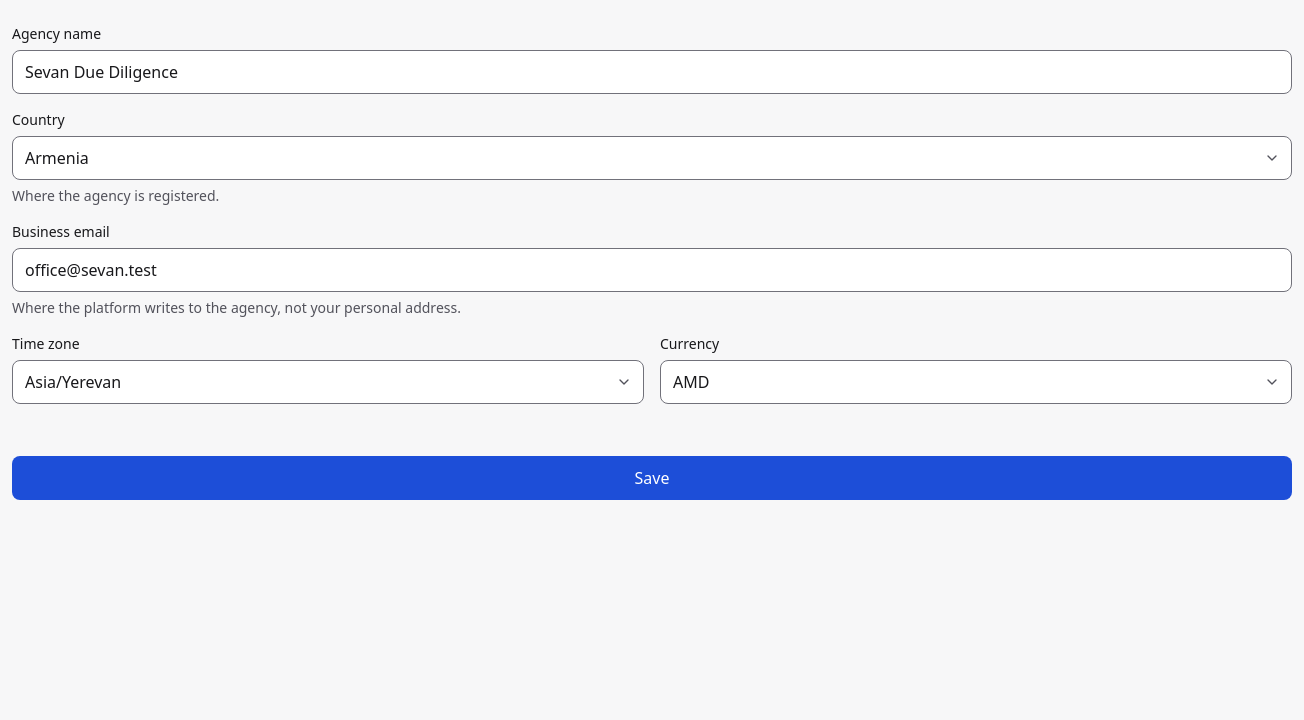
Scenario: an agency’s details (T-150) › the owner’s form › asks for a reload when the details changed elsewhere, and overwrites nothing
The width and height of the screenshot is (1304, 720).
Step 1. Select "EUR" in the dropdown labelled "Currency" → (976, 382), box [660,360,1292,404]
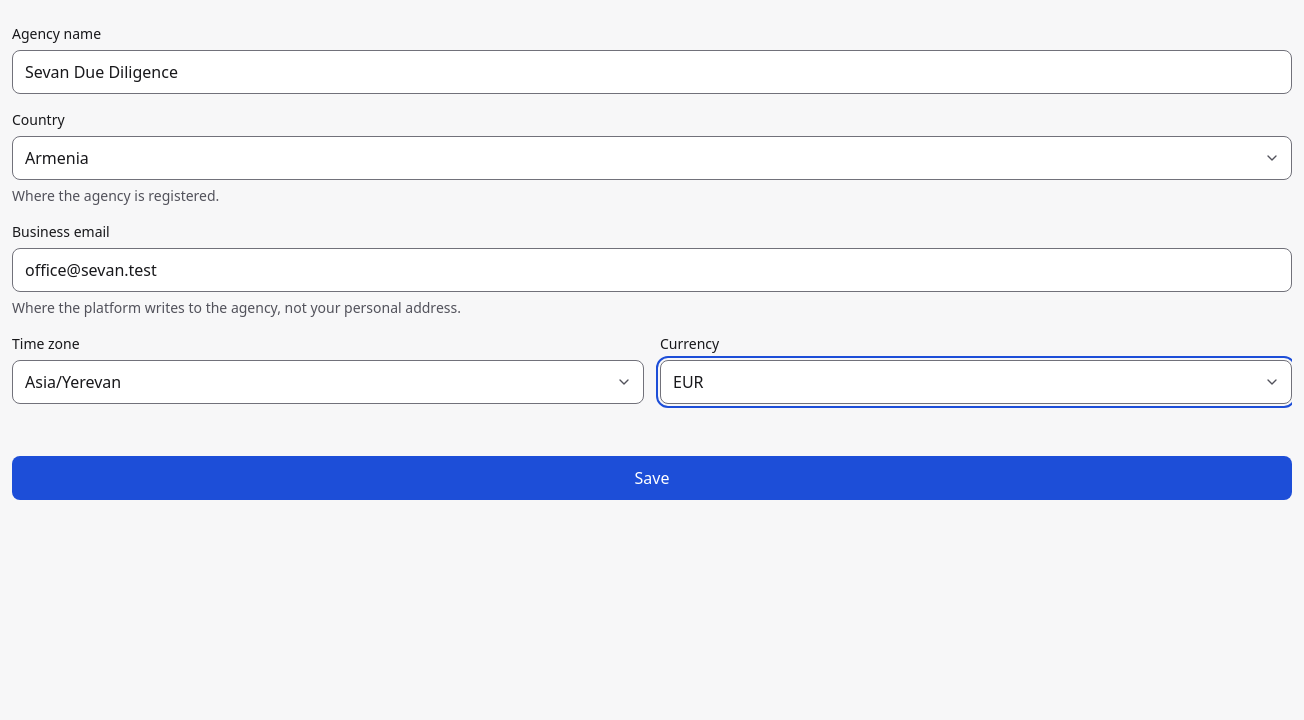
Step 2. Click the button "Save" → (652, 478), box [12,456,1292,500]
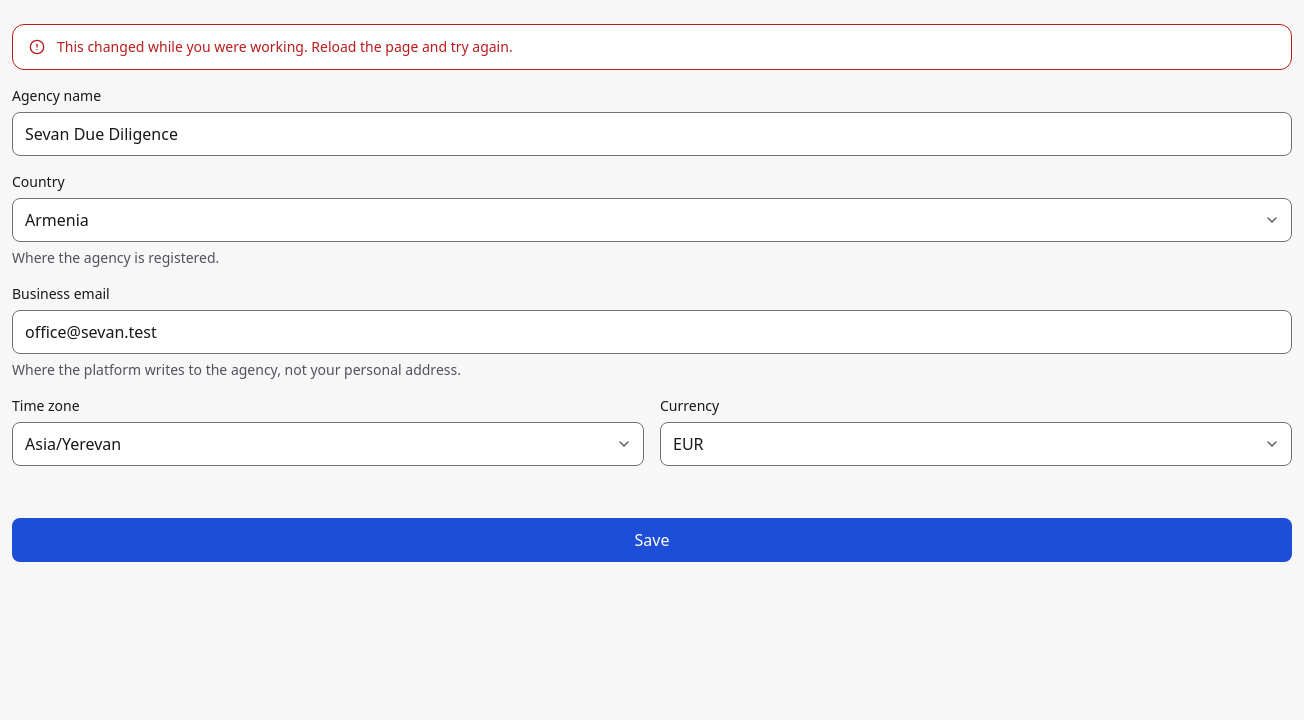
Now the message "This changed while you were working. Reload the page and try again." is shown, box [12,24,1292,70]
